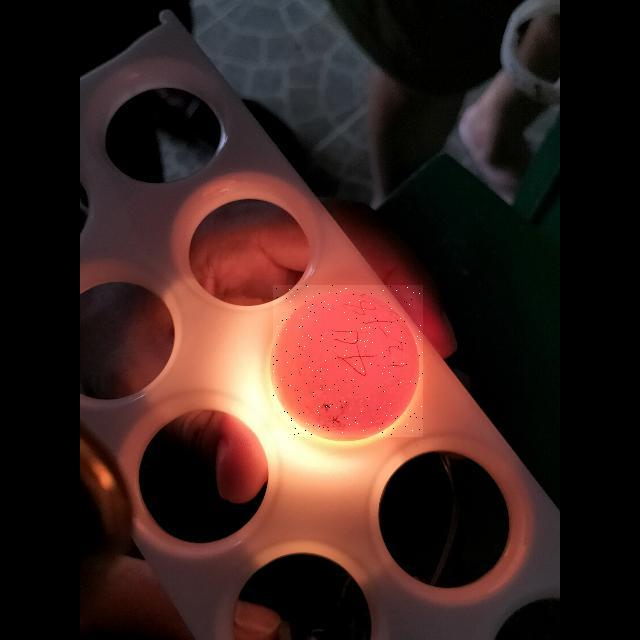Infertile: (273, 285, 423, 437)
